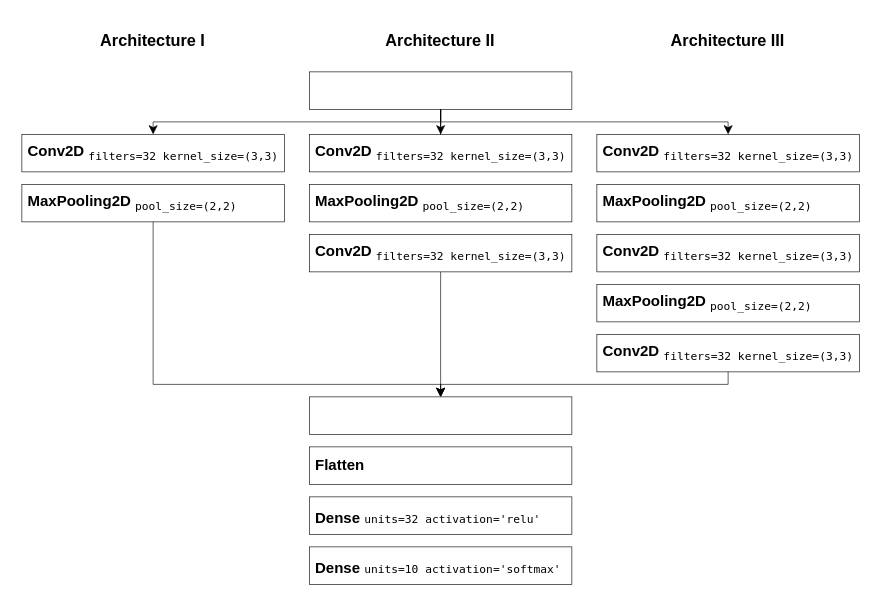
Some shapes in this 881 by 606 pixel diagram are drawn without their labels. The centre of each missing label's shape, as x and y in pixels:
"BatchNormalization" goes at pixel 440 415.
"Input shape=(32,32,3)" goes at pixel 440 90.
